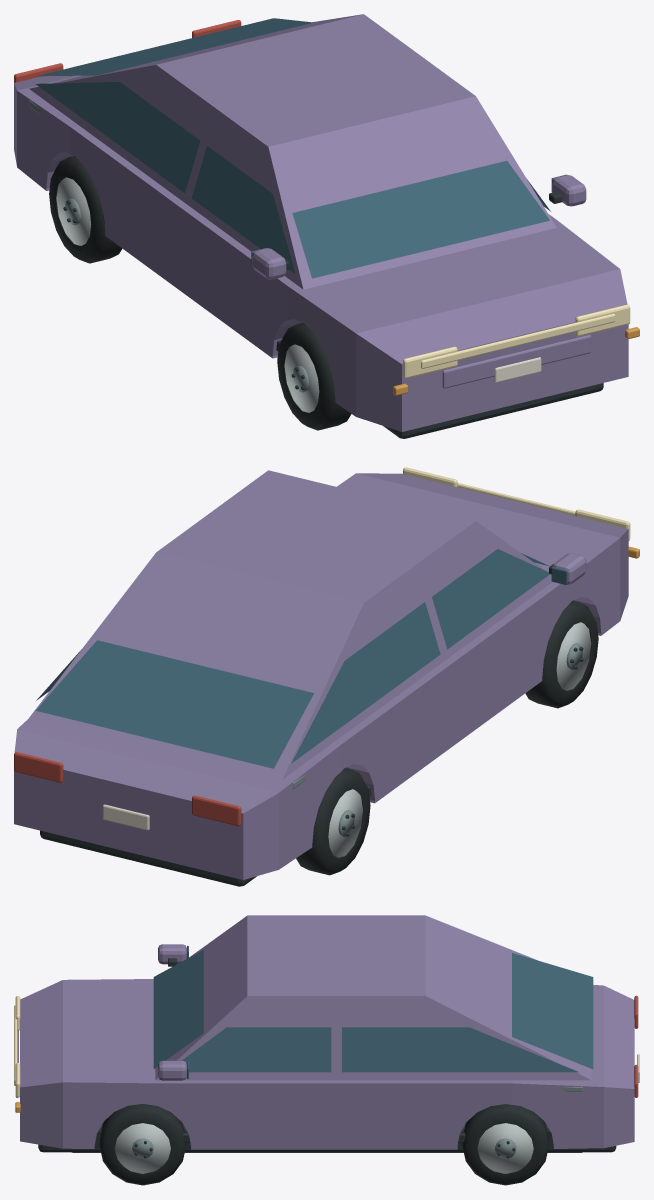
File: original-car-electric-09.glb
The picture shows the model from 3 angles, top to bottom: view 1: azimuth 30°, elevation 25°; view 2: azimuth 150°, elevation 25°; view 3: azimuth 270°, elevation 25°; orthographic projection. The views are drawn at different scales.
Parts seen in each view (by area): view 1: BodyShell, CabinShell, Windscreen, WindowRear, WindowFront, RearGlass, Tyre_FR, Tyre_RR, EVClosedNose, EVLightBar, Frame, Rim_FR (+6 smaller); view 2: BodyShell, CabinShell, RearGlass, WindowRear, WindowFront, Tyre_RR, Tyre_FR, Frame, Rim_FR, Rim_RR, TailLamp, TailLamp.001 (+3 smaller); view 3: BodyShell, CabinShell, WindowRear.001, RearGlass, WindowFront.001, Windscreen, Tyre_FL, Tyre_RL, Frame, Rim_FL, Rim_RL, MirrorHousing.001 (+1 smaller).
Boxes of the visible parts, left/top/right/bottom form: BodyShell: left=14, top=75, right=628, bottom=431; CabinShell: left=29, top=14, right=556, bottom=289; Windscreen: left=292, top=160, right=549, bottom=278; WindowRear: left=36, top=82, right=200, bottom=192; WindowFront: left=191, top=146, right=295, bottom=273; RearGlass: left=36, top=18, right=313, bottom=76; Tyre_FR: left=277, top=323, right=351, bottom=430; Tyre_RR: left=49, top=156, right=122, bottom=263; EVClosedNose: left=442, top=335, right=591, bottom=388; EVLightBar: left=421, top=313, right=615, bottom=368; Frame: left=383, top=383, right=603, bottom=438; Rim_FR: left=284, top=344, right=319, bottom=412; BodyShell: left=14, top=473, right=628, bottom=879; CabinShell: left=29, top=470, right=552, bottom=779; RearGlass: left=36, top=640, right=314, bottom=768; WindowRear: left=291, top=602, right=440, bottom=763; WindowFront: left=432, top=549, right=549, bottom=649; Tyre_RR: left=296, top=768, right=370, bottom=875; Tyre_FR: left=525, top=600, right=598, bottom=708; Frame: left=40, top=830, right=256, bottom=886; Rim_FR: left=556, top=622, right=591, bottom=690; Rim_RR: left=328, top=789, right=363, bottom=857; TailLamp: left=192, top=795, right=241, bottom=826; TailLamp.001: left=14, top=752, right=63, bottom=782; BodyShell: left=20, top=979, right=634, bottom=1149; CabinShell: left=155, top=915, right=591, bottom=1080; WindowRear.001: left=342, top=1027, right=578, bottom=1072; RearGlass: left=512, top=953, right=593, bottom=1069; WindowFront.001: left=182, top=1027, right=331, bottom=1072; Windscreen: left=153, top=950, right=203, bottom=1068; Tyre_FL: left=99, top=1104, right=185, bottom=1185; Tyre_RL: left=462, top=1104, right=548, bottom=1185; Frame: left=38, top=1121, right=616, bottom=1152; Rim_FL: left=115, top=1123, right=170, bottom=1173; Rim_RL: left=477, top=1123, right=533, bottom=1173; MirrorHousing.001: left=158, top=1060, right=186, bottom=1080.
Size of the model in its own units: 2.21 by 1.49 by 4.7.
